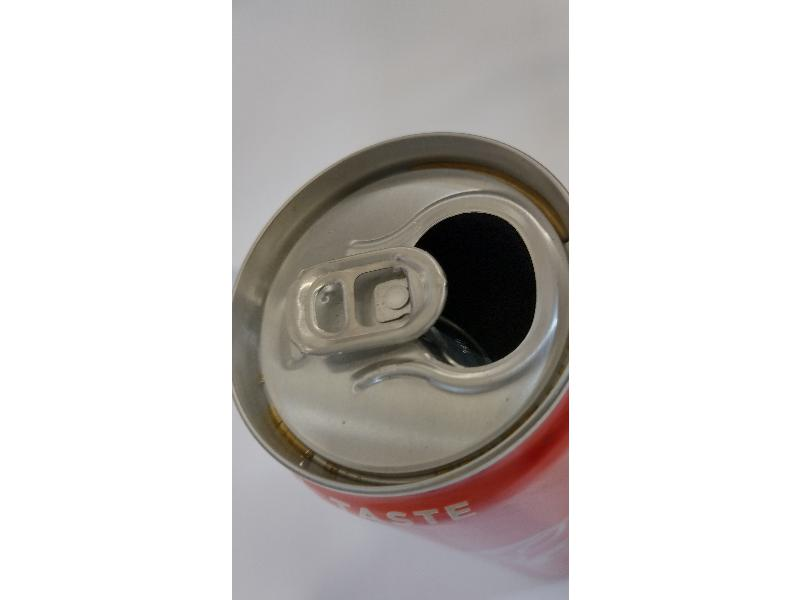can: (230, 129, 583, 543)
